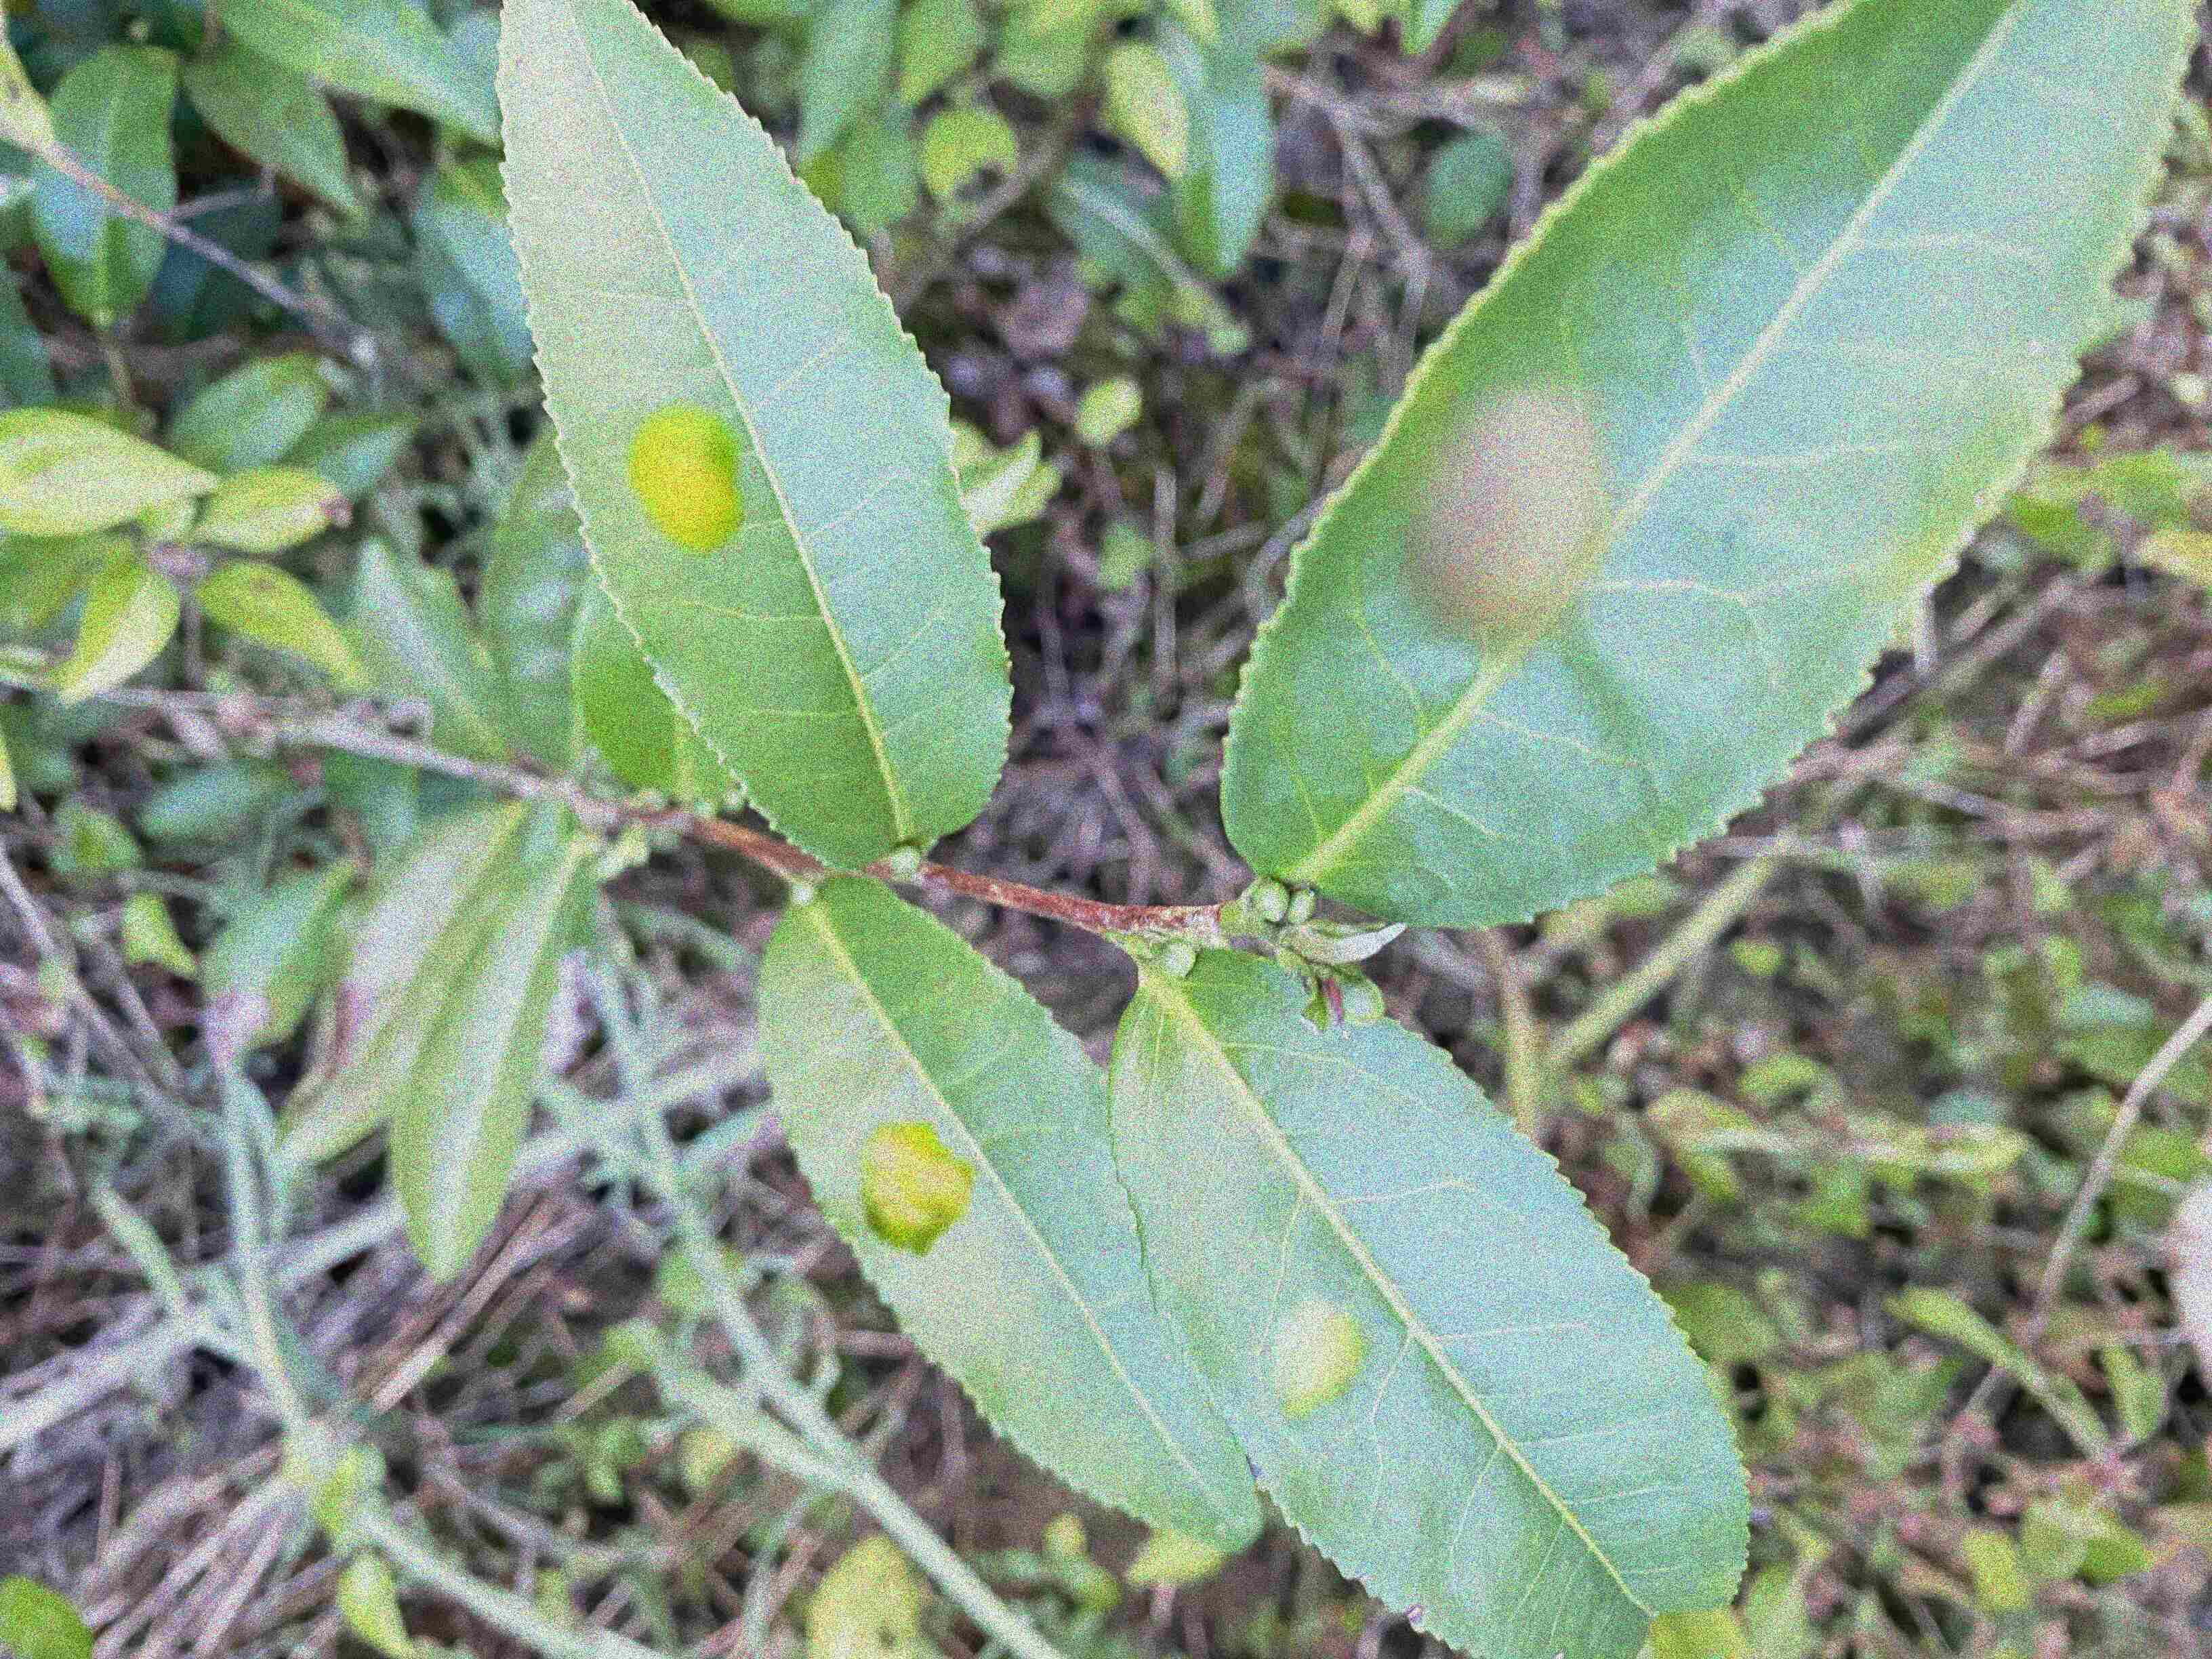chabing_low: (1219, 3, 2195, 931), (1106, 945, 1756, 1656), (495, 3, 1017, 873), (752, 868, 1261, 1553)
